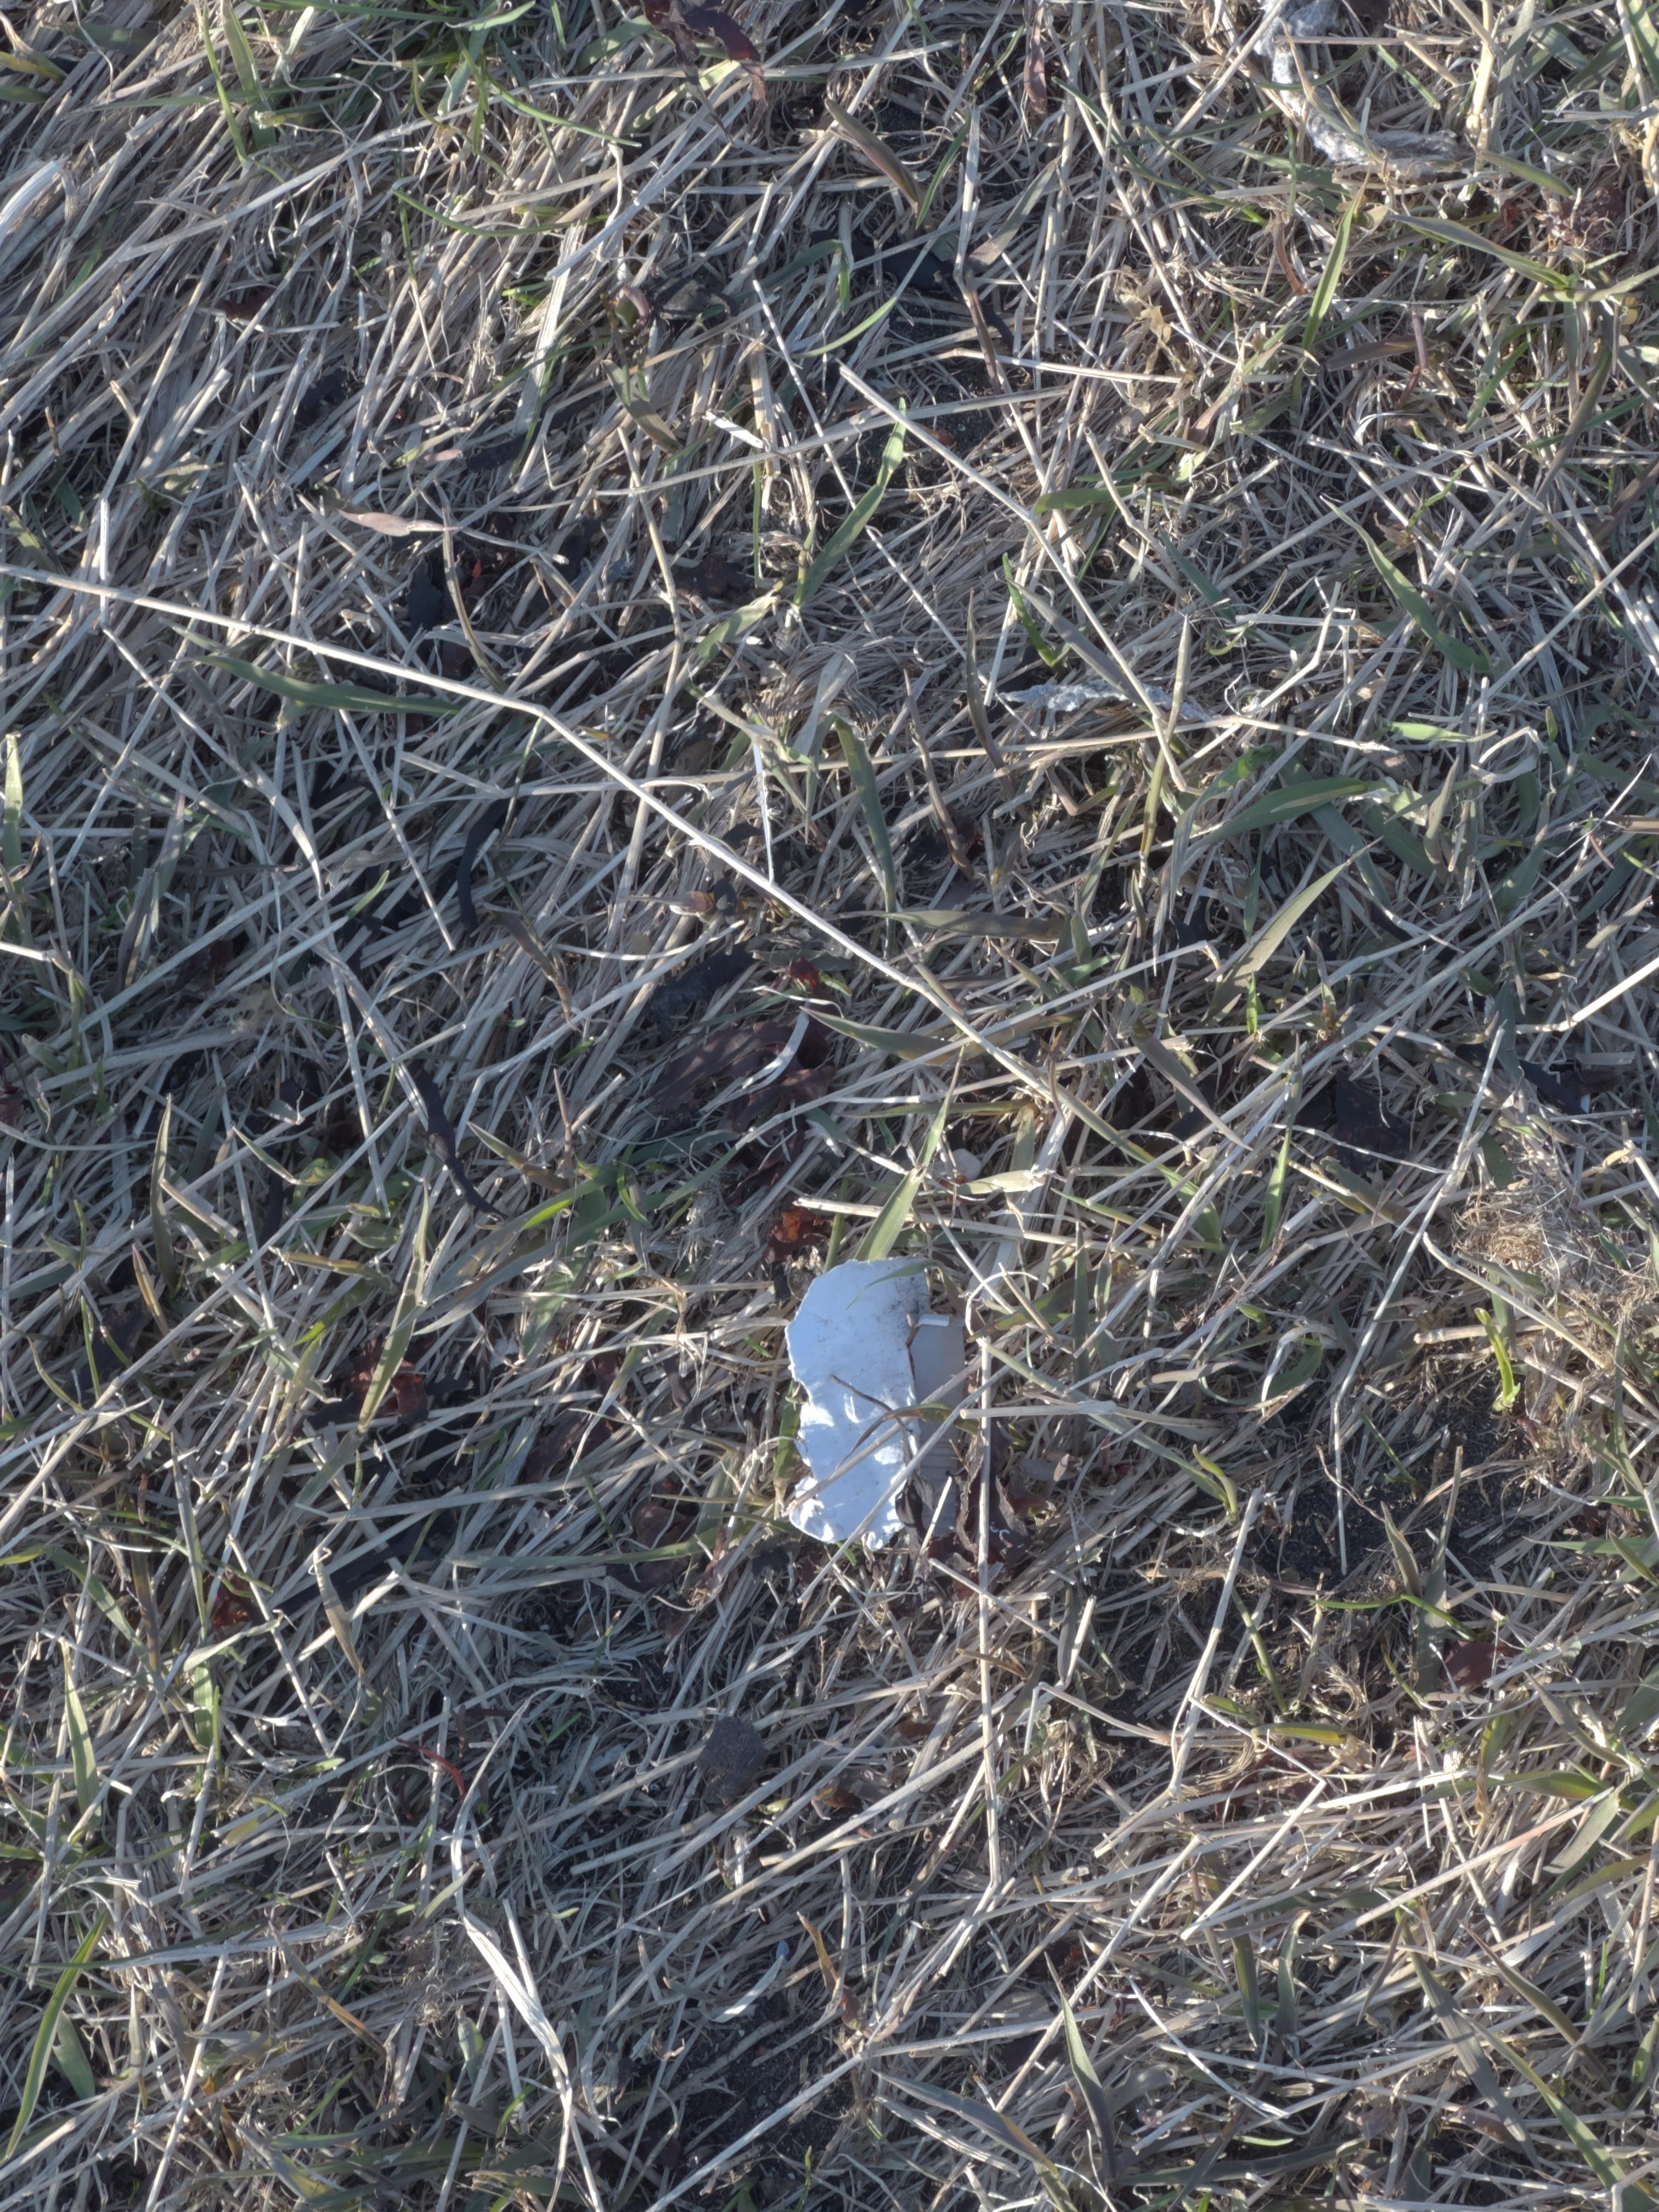trash: (786, 1257, 929, 1551), (1253, 0, 1460, 177), (907, 1313, 963, 1408), (916, 1417, 959, 1538)
